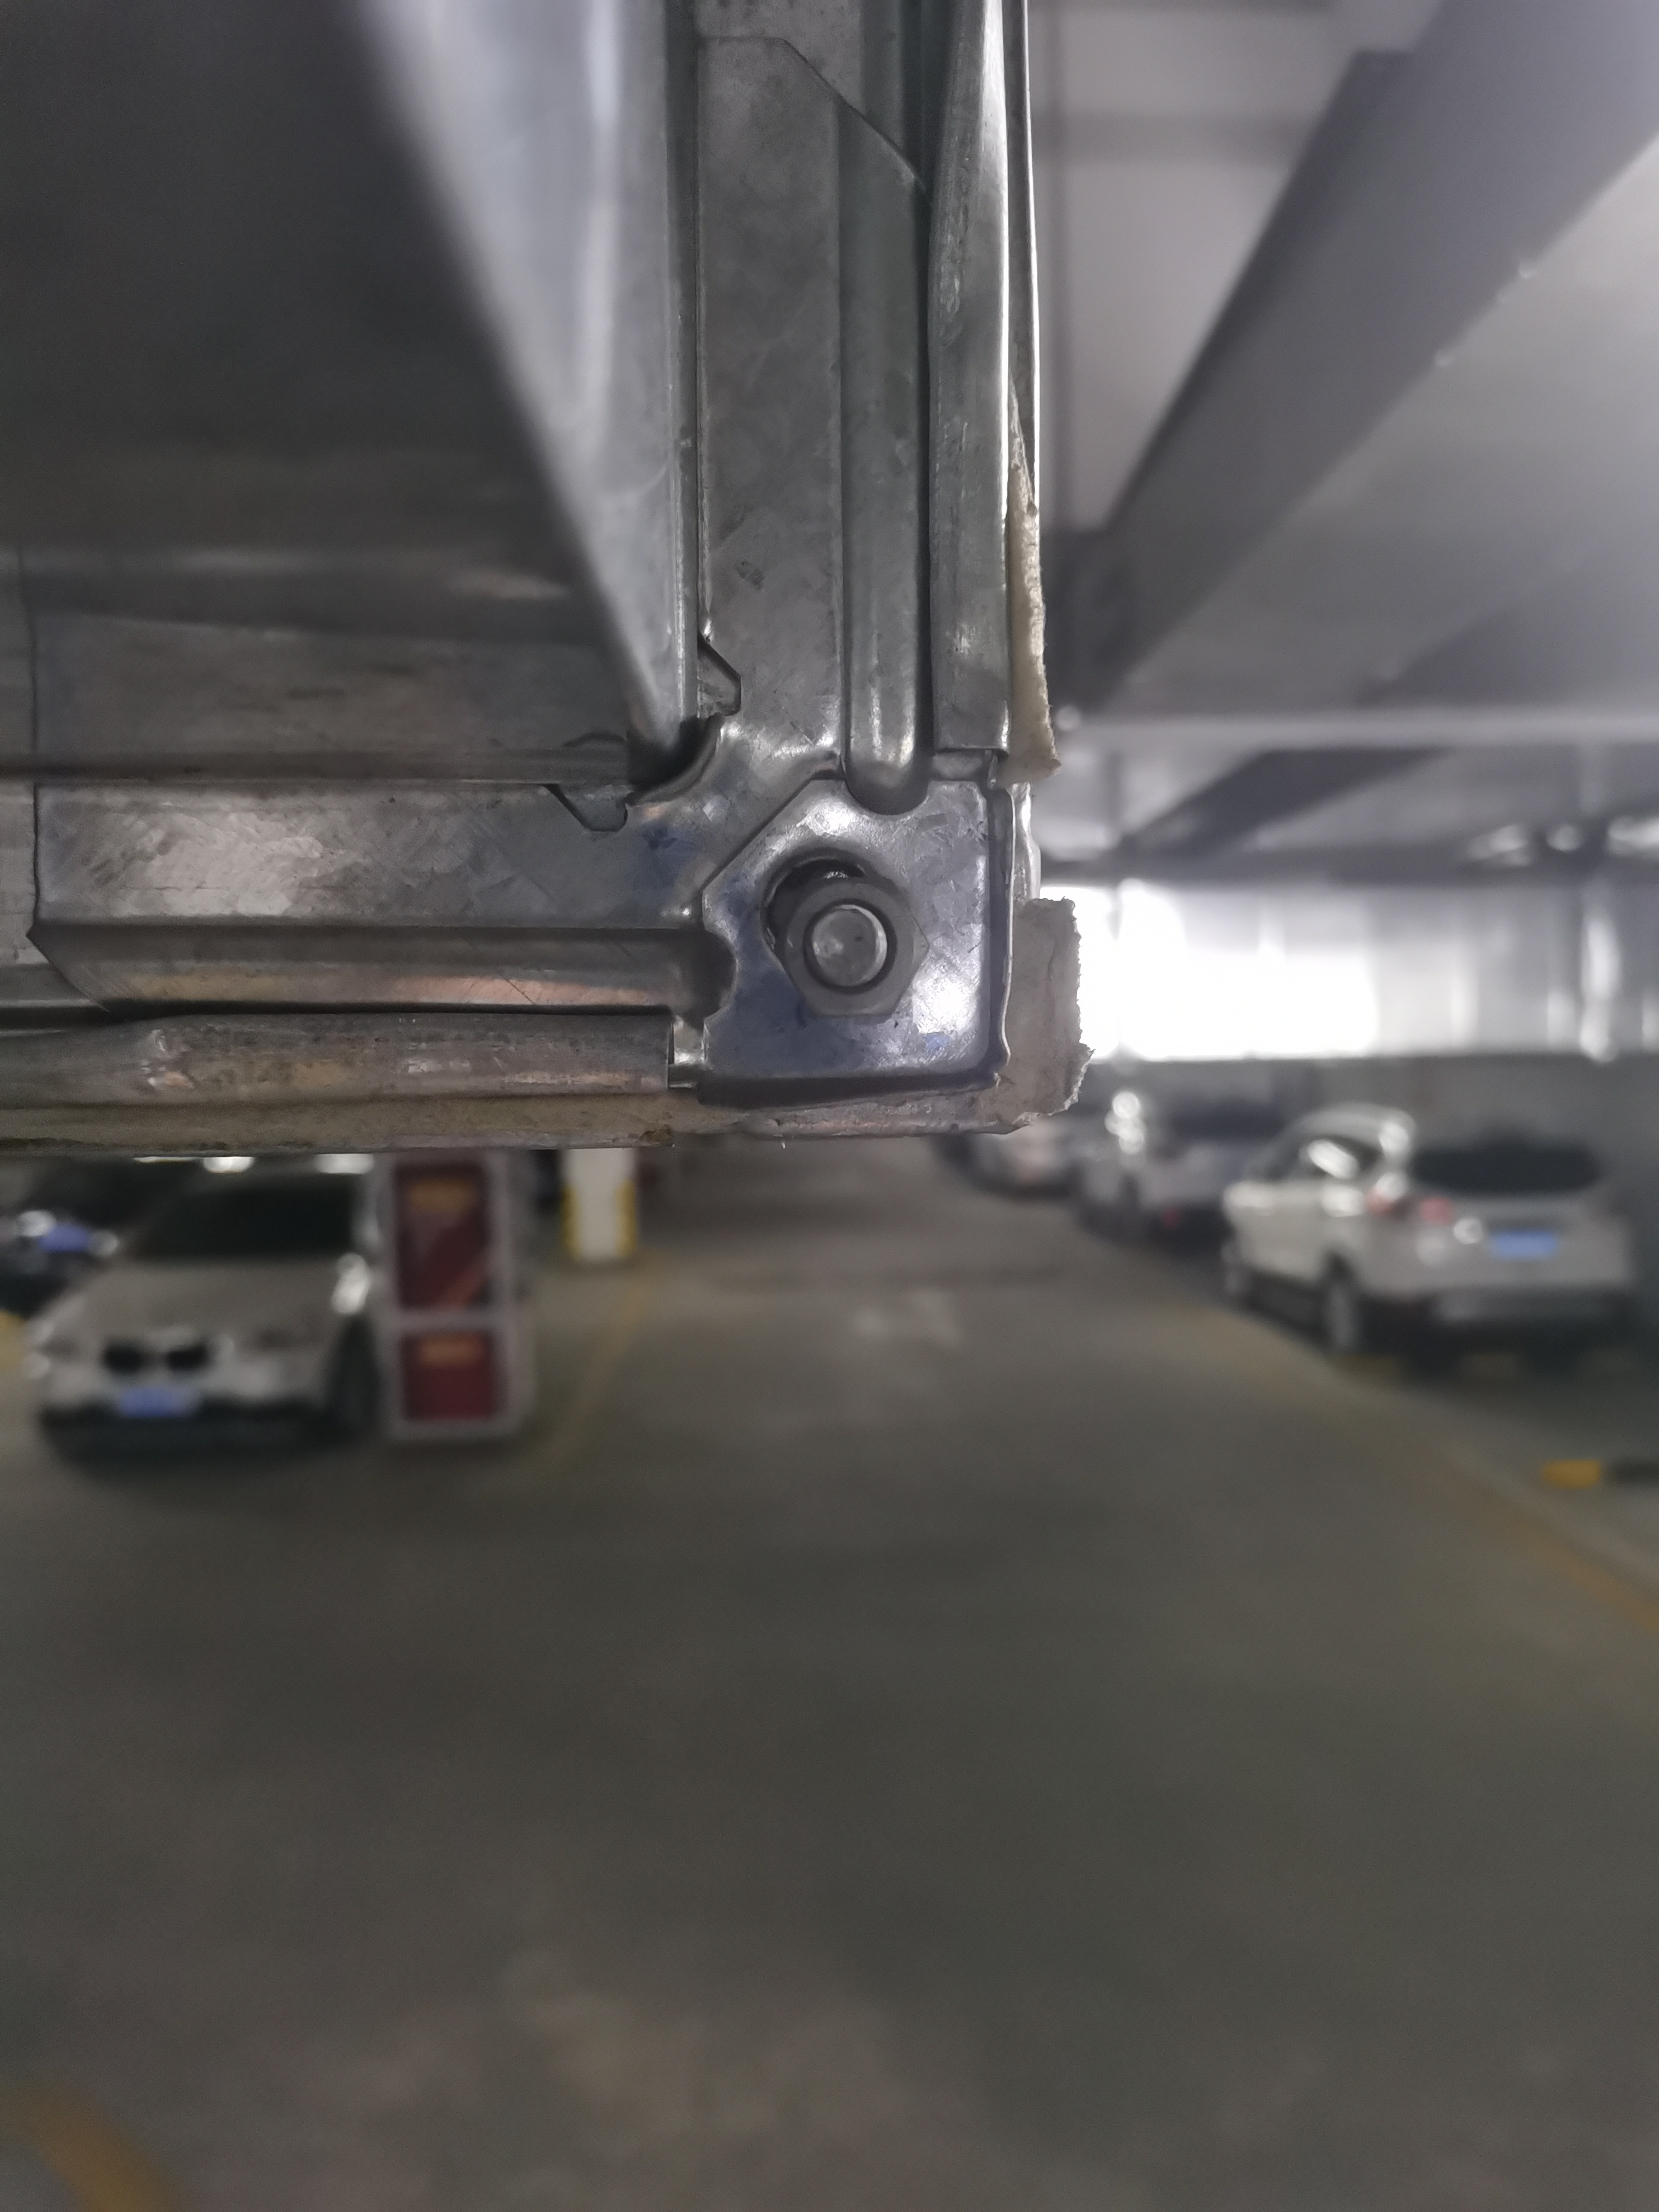bolt_b: (767, 860, 932, 1028)
